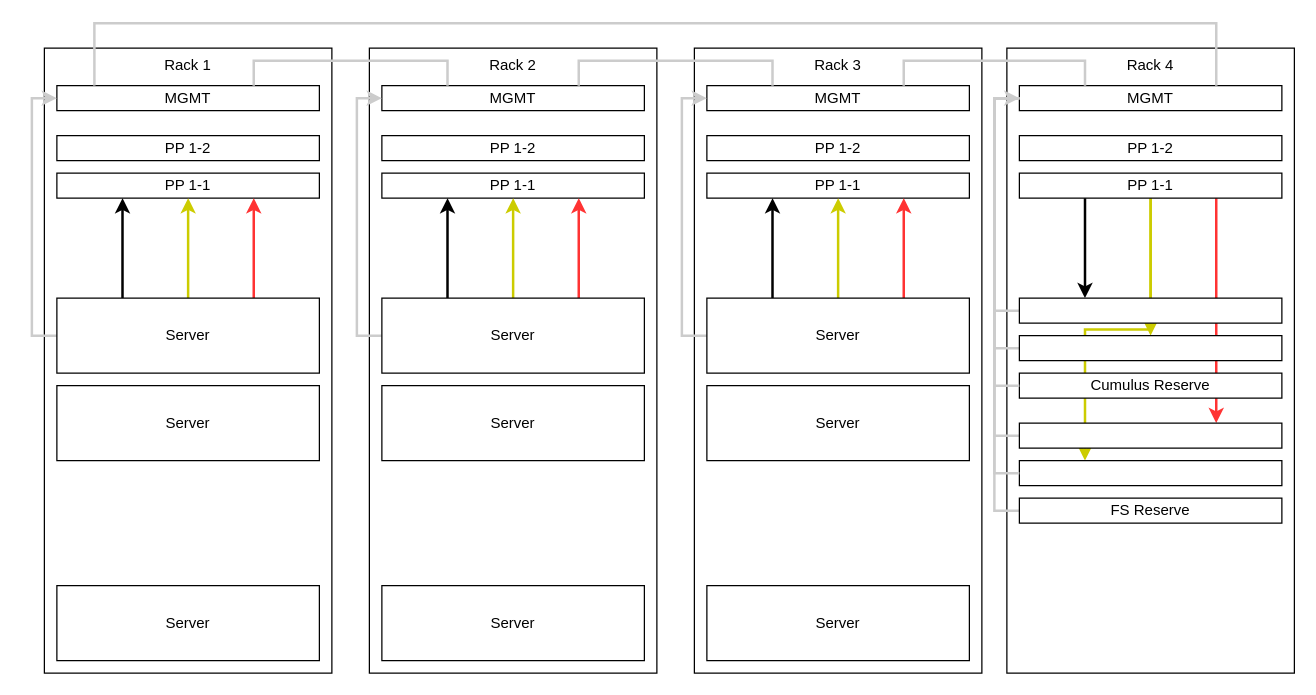
This 1316x695 diagram has some shape labels left out. Each missing label, with the centre of its shape:
"Cumulus STB" goes at [1150,347].
"Cumulus STO" goes at [1150,310].
"FS FE" goes at [1150,472].
"FS SRV" goes at [1150,435].
